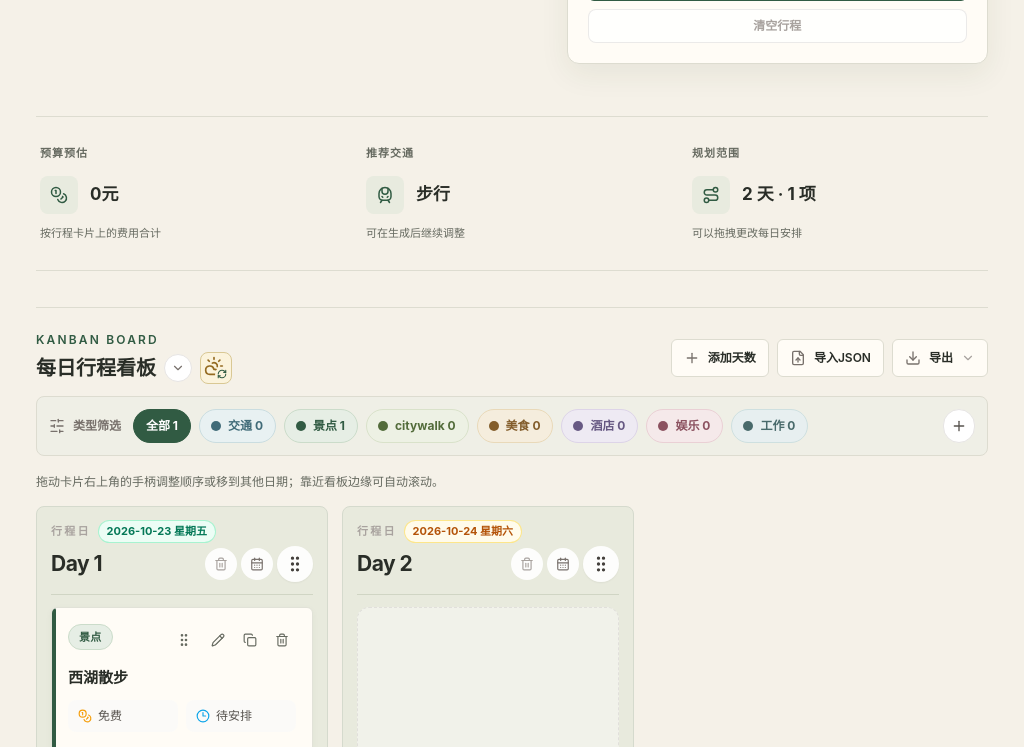
Scenario: App key interactions › discards weather if the trip days changes during the request
The width and height of the screenshot is (1024, 747).
(page scrolled)
Click the button named "更新天气": coordinates (216, 368) [200, 352, 232, 384]
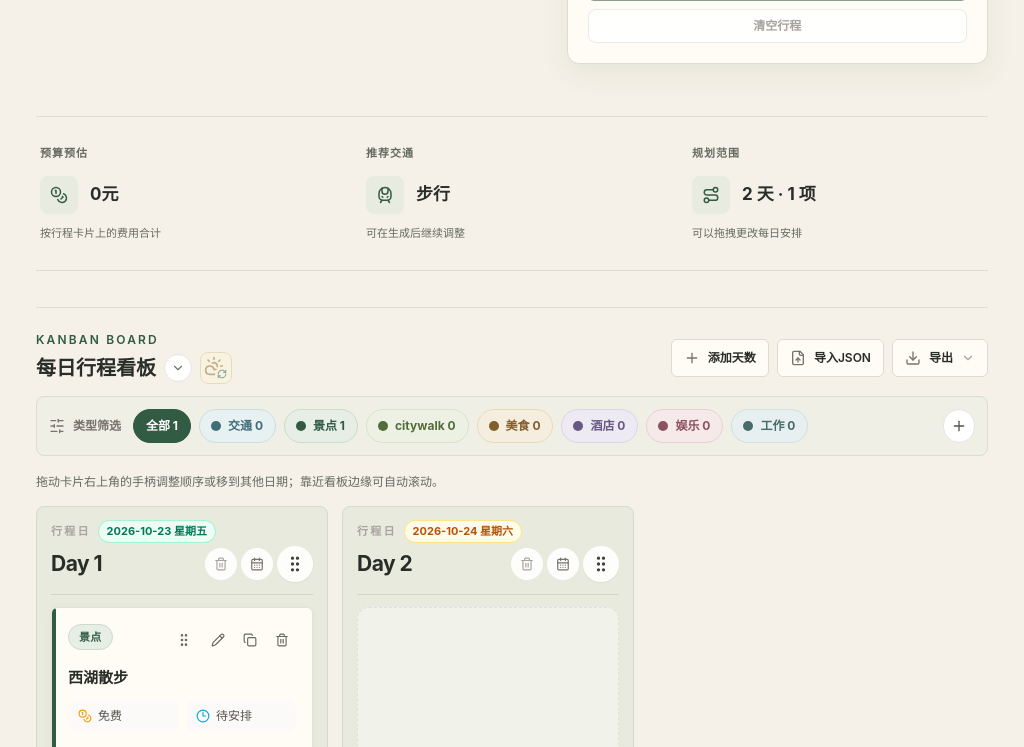
Click the button "添加天数": coordinates (720, 358) [671, 339, 769, 377]
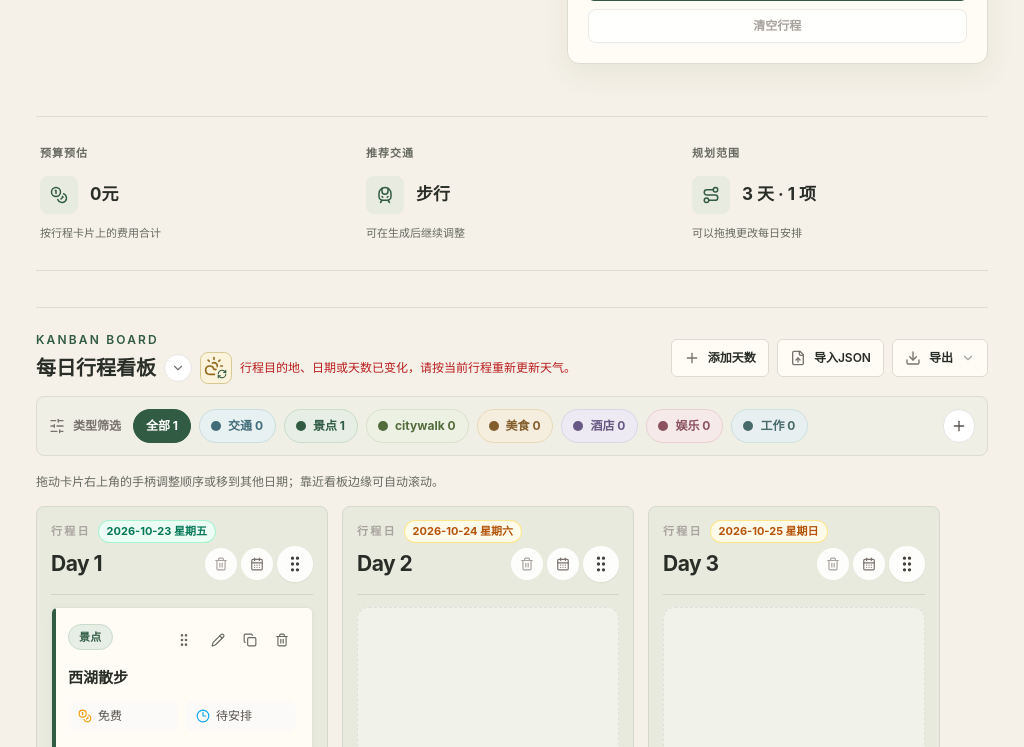
Expected: the message shows "已变化", [240, 360, 576, 376]
